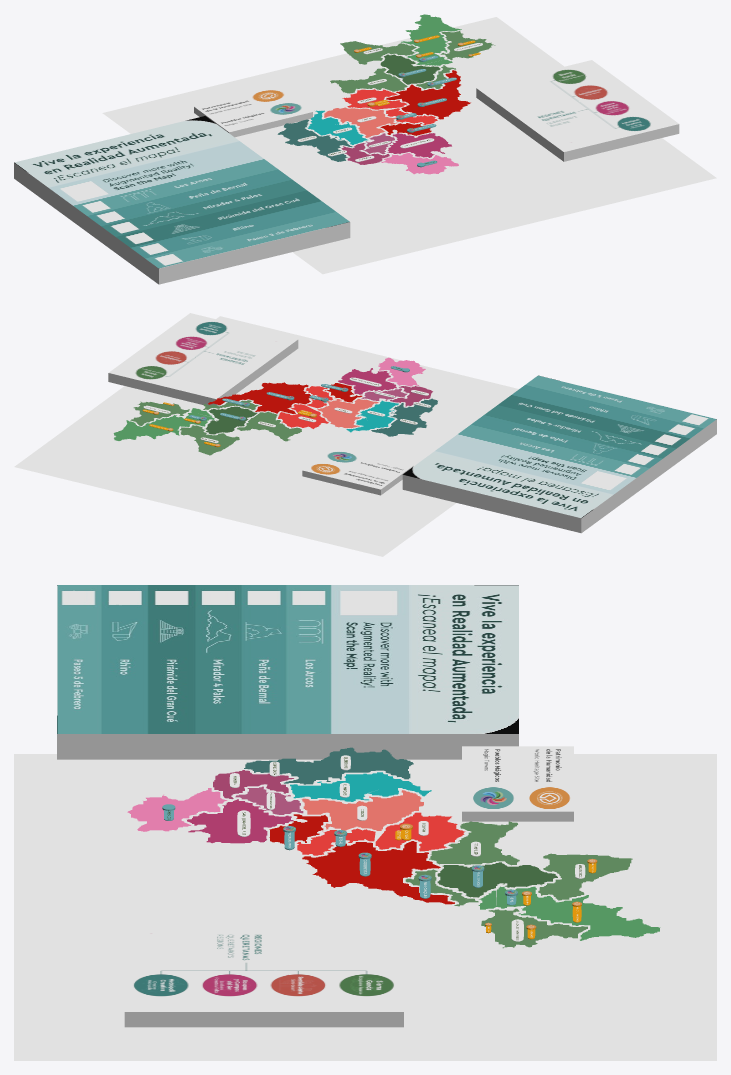
Rendered from Map2.glb.
3 renders of one model, top to bottom at view 1: azimuth 30°, elevation 25°; view 2: azimuth 150°, elevation 25°; view 3: azimuth 270°, elevation 25°, orthographic. The views are drawn at different scales.
Visible parts, largest first — view 1: Plane, Cube, Plane.001, Cube.001, Cube.033; view 2: Plane, Cube, Plane.001, Cube.001, Cube.033; view 3: Plane, Cube, Plane.001, Cube.001, Cube.033.
Boxes of the visible parts, bbox=[...] form: Plane: bbox=[102, 17, 716, 274]; Cube: bbox=[14, 116, 350, 284]; Plane.001: bbox=[277, 14, 495, 174]; Cube.001: bbox=[476, 60, 679, 161]; Cube.033: bbox=[194, 86, 312, 137]; Plane: bbox=[14, 316, 518, 556]; Cube: bbox=[402, 375, 716, 533]; Plane.001: bbox=[113, 357, 437, 455]; Cube.001: bbox=[108, 313, 298, 408]; Cube.033: bbox=[302, 446, 413, 495]; Plane: bbox=[14, 754, 716, 1060]; Cube: bbox=[57, 585, 518, 759]; Plane.001: bbox=[127, 747, 660, 948]; Cube.001: bbox=[124, 922, 403, 1027]; Cube.033: bbox=[462, 746, 573, 821].
Bounding box in the file's own units: 3.34 × 0.2255 × 2.34.
25 materials, 5 textured.
